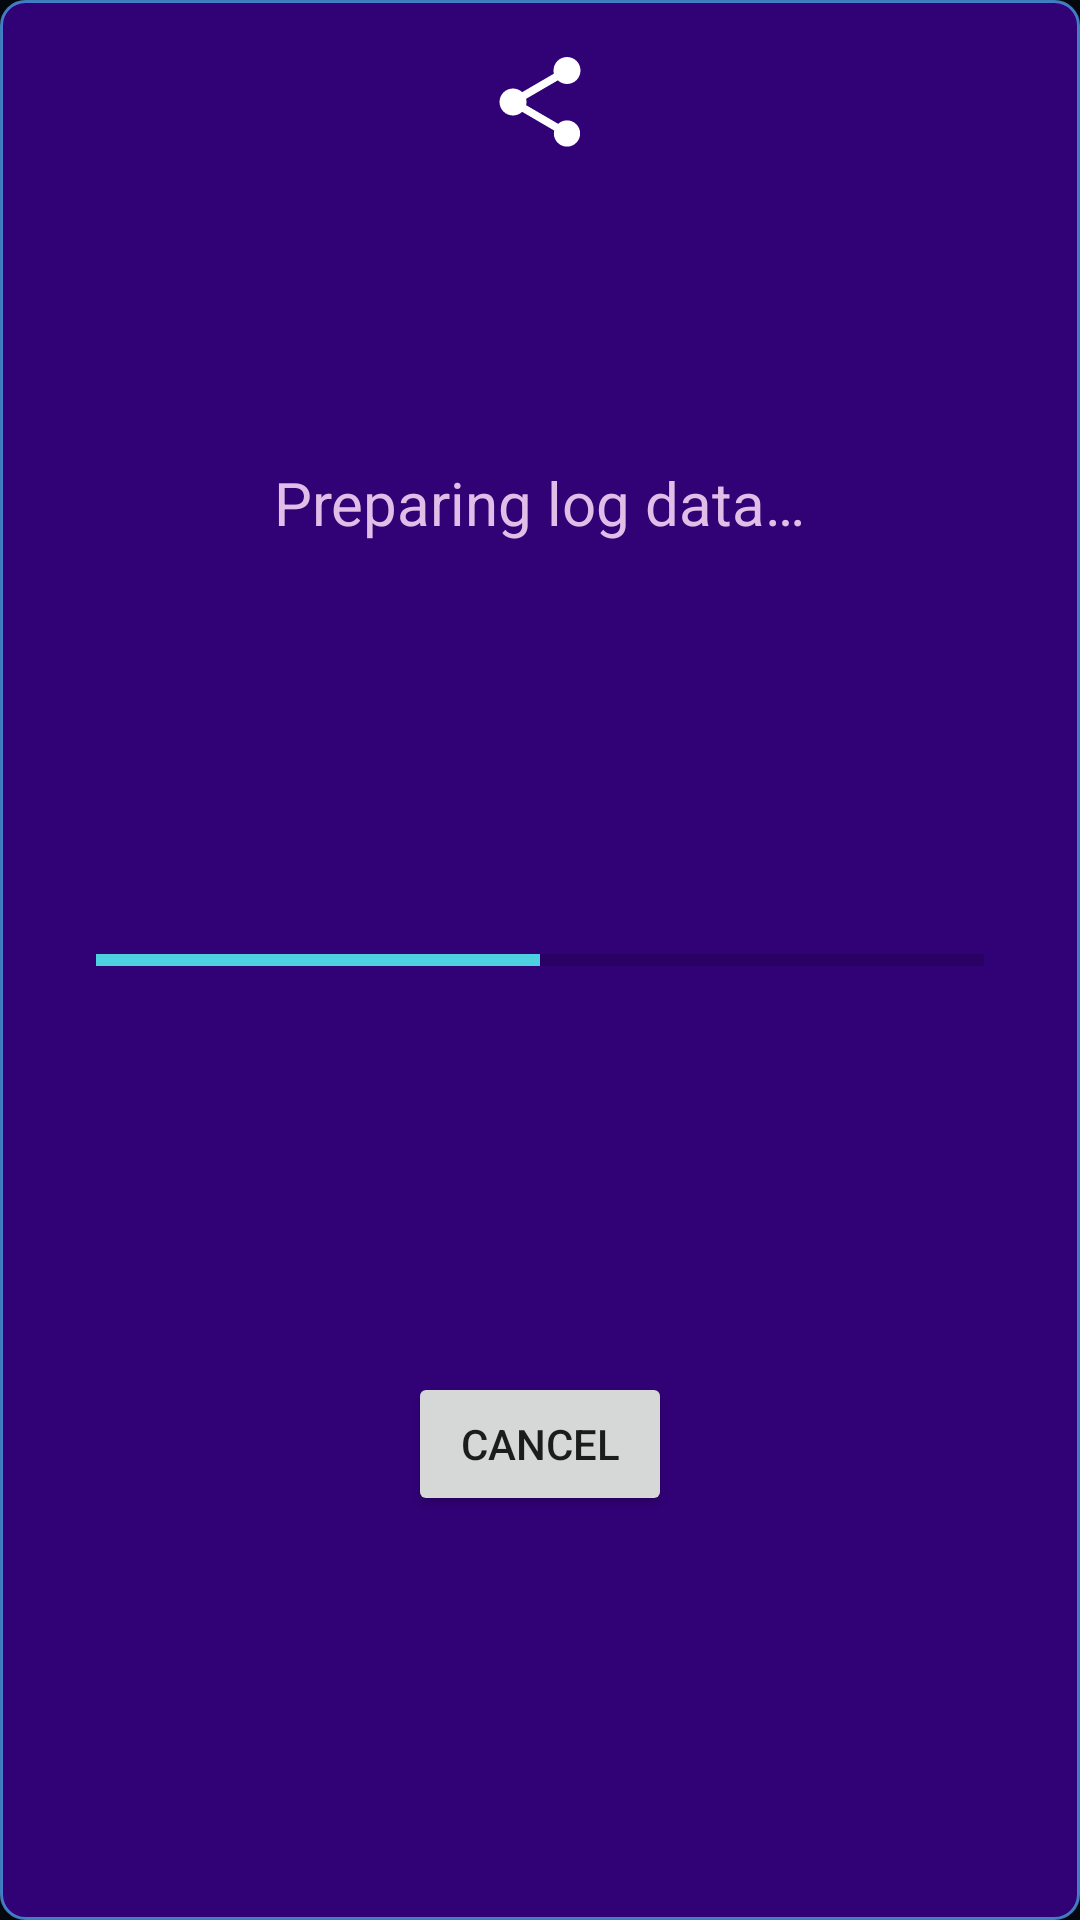

Locate icon controls on the screen. Image size 1080 x 1920, boxes as detection(x1, y1, x2, y2).
Share logs: detection(499, 57, 581, 147)
